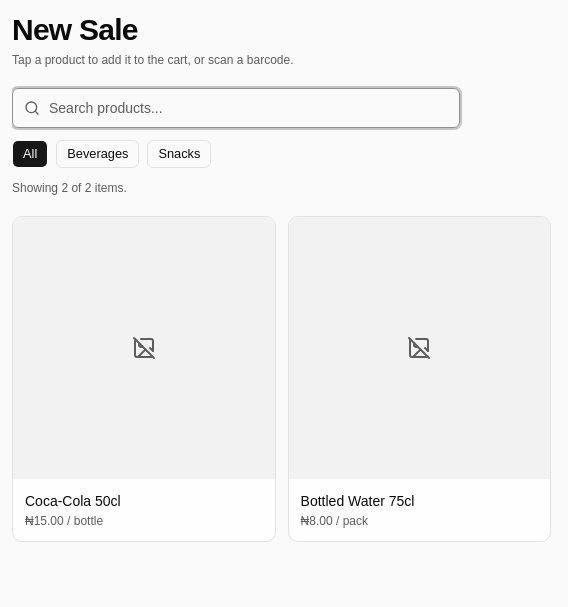
NewSalePage › debounces typed search into the URL
Expected: the button "Coca-Cola 50cl ₦15.00 / bottle" is shown, [12,216,276,542]
Step 1. Type "water" into the search field named "Search products or scan a barcode" → (236, 108), box [13,88,459,128]
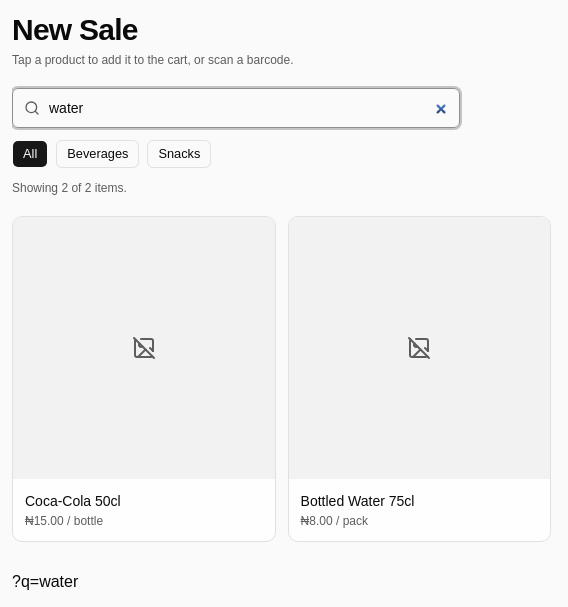
Result: the text with test id "location-search" shows "q=water" at [12,573,78,590]
